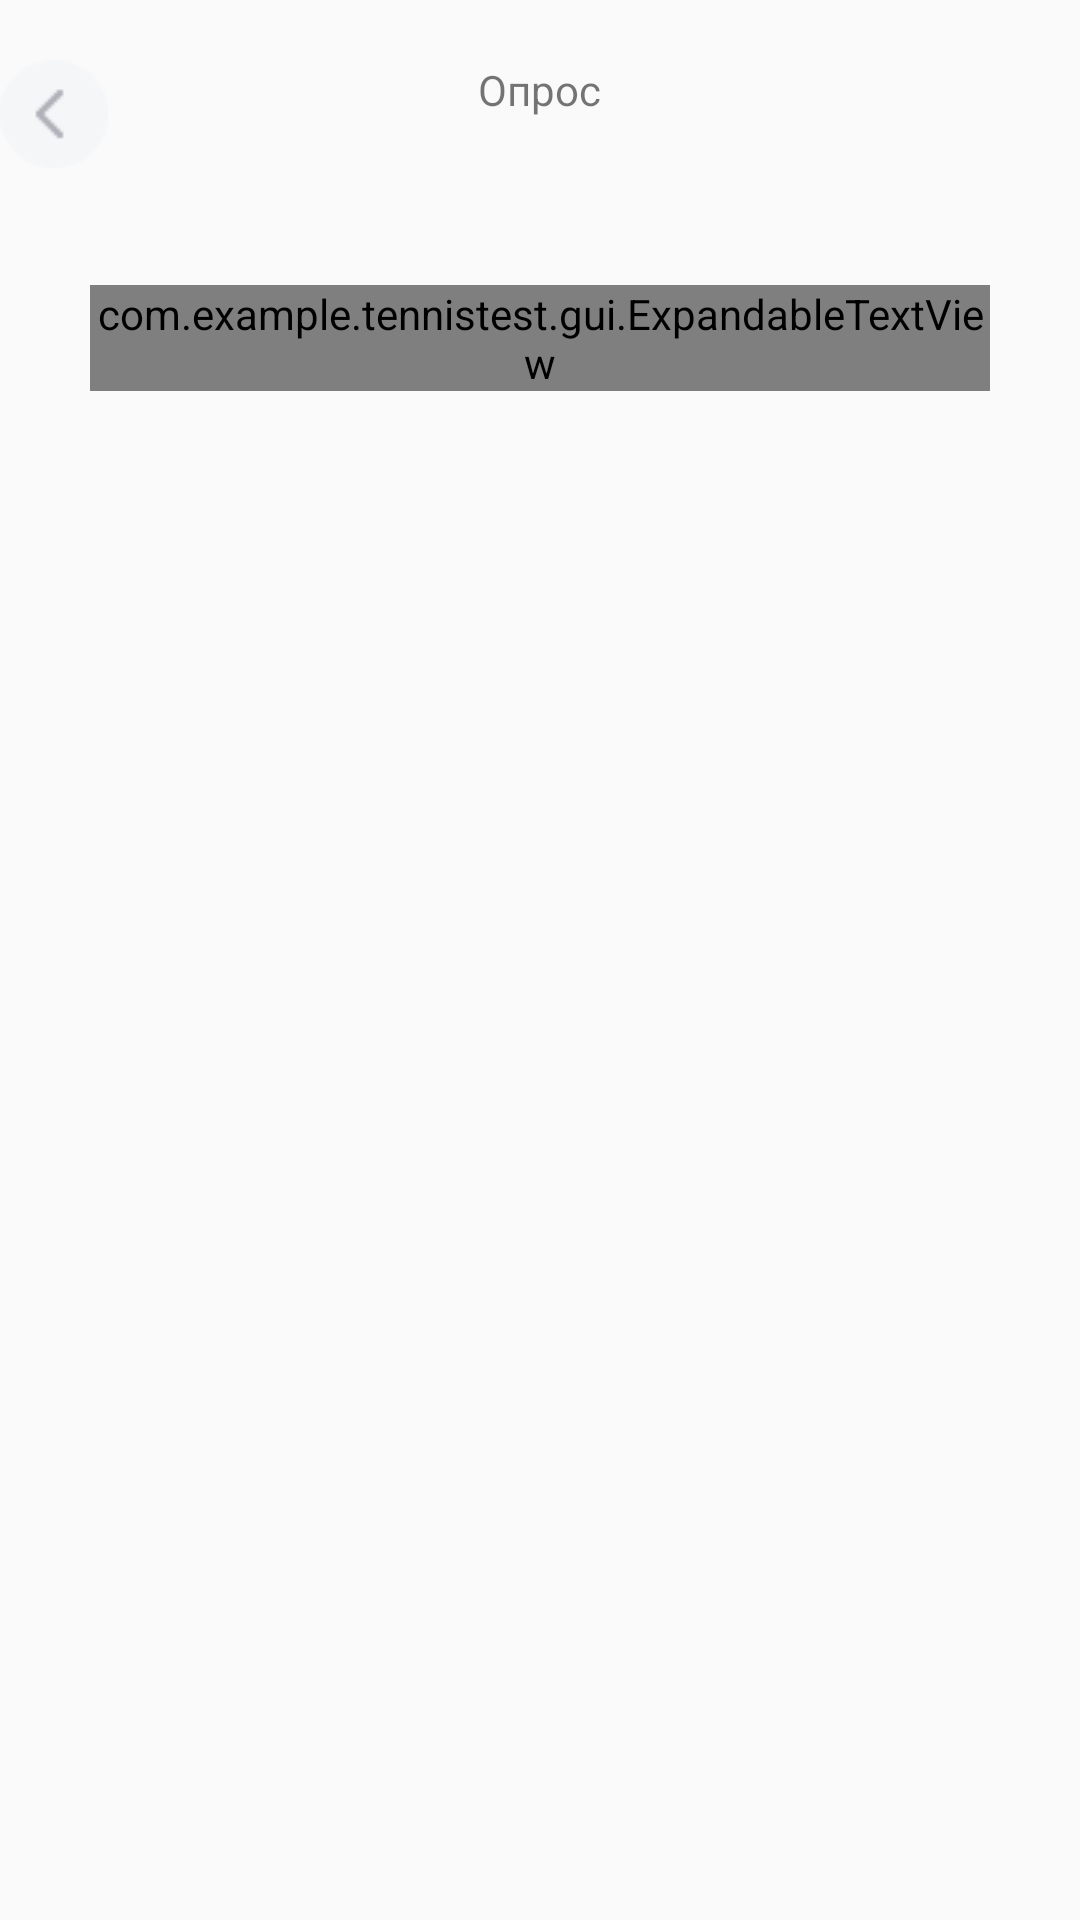

Point at icon controls on the screen. Image size 1080*1920, points as (x,y).
back arrow: (49,114)
